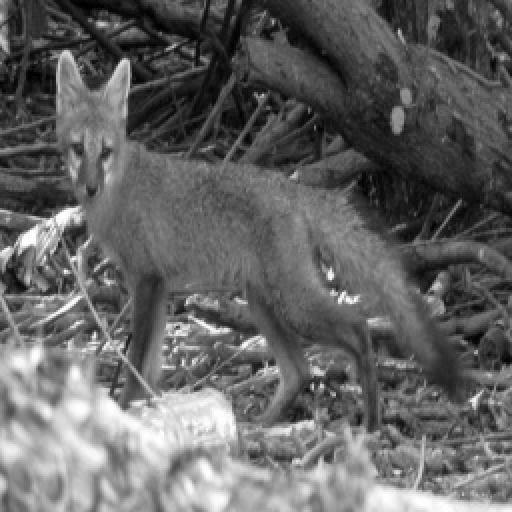zorro: (56, 50, 462, 430)
